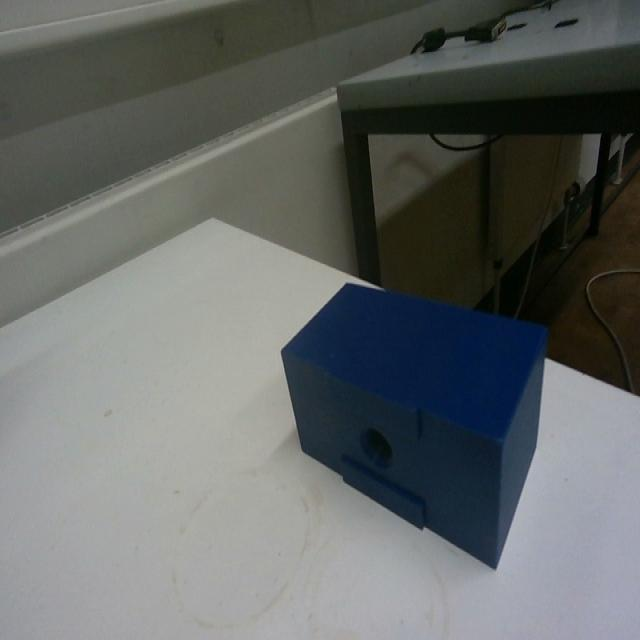Blue Cuboid: (278, 276, 550, 569)
